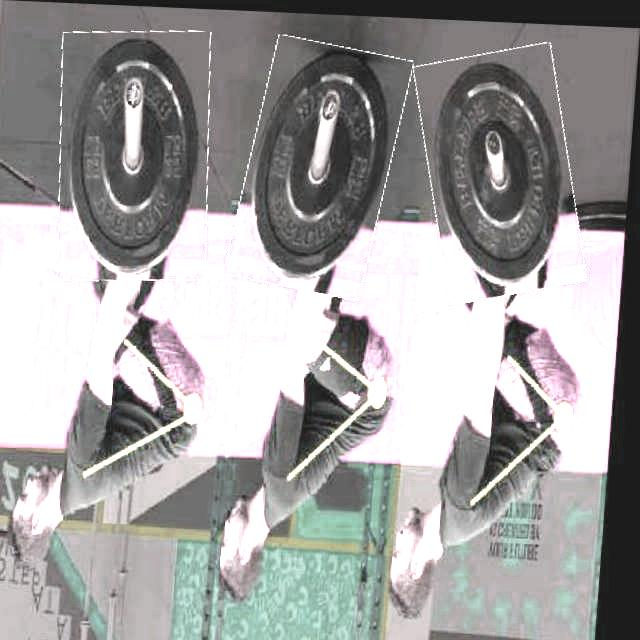barbell: (415, 40, 592, 300), (237, 35, 407, 295), (53, 27, 221, 282)
